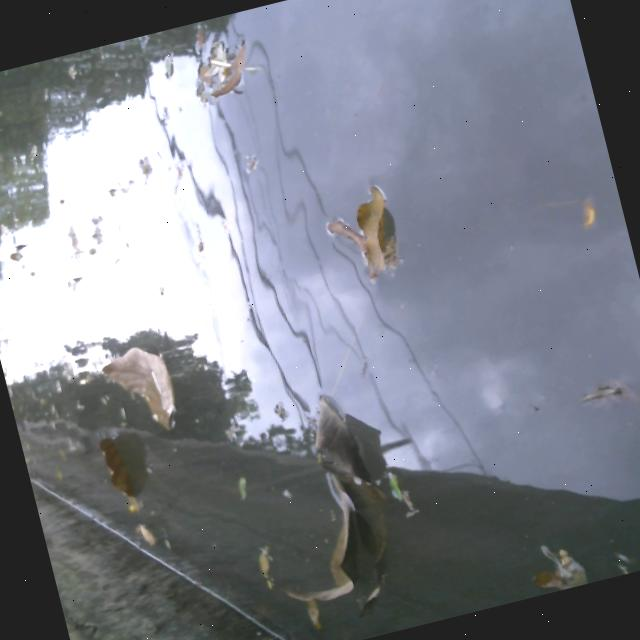Big-leaf: (290, 383, 431, 616), (97, 336, 188, 445), (88, 432, 150, 515)
Small-leaf: (525, 531, 602, 596), (212, 48, 281, 113), (322, 216, 371, 272), (574, 374, 640, 414), (378, 467, 422, 522), (566, 181, 608, 237), (193, 41, 229, 85), (249, 545, 284, 590), (131, 514, 171, 552), (298, 602, 338, 638), (0, 235, 41, 270), (227, 472, 255, 500)
